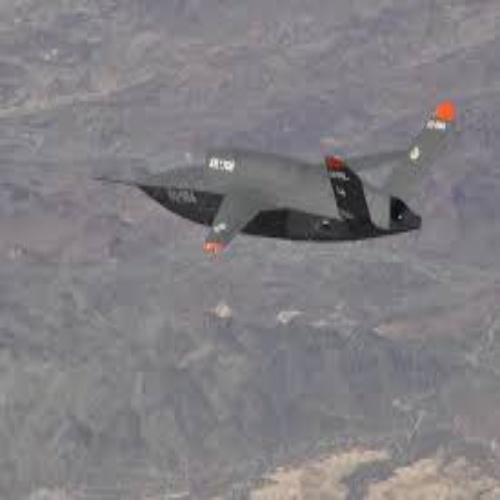uav: (103, 99, 454, 250)
